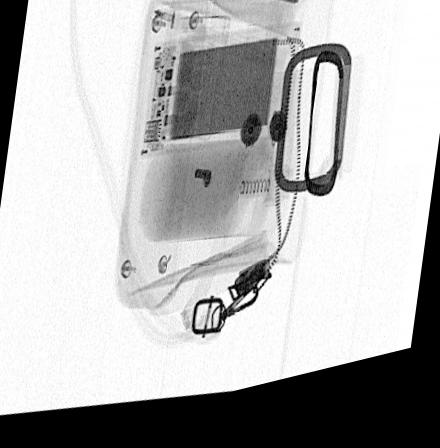Powerbank: (139, 36, 302, 167)
